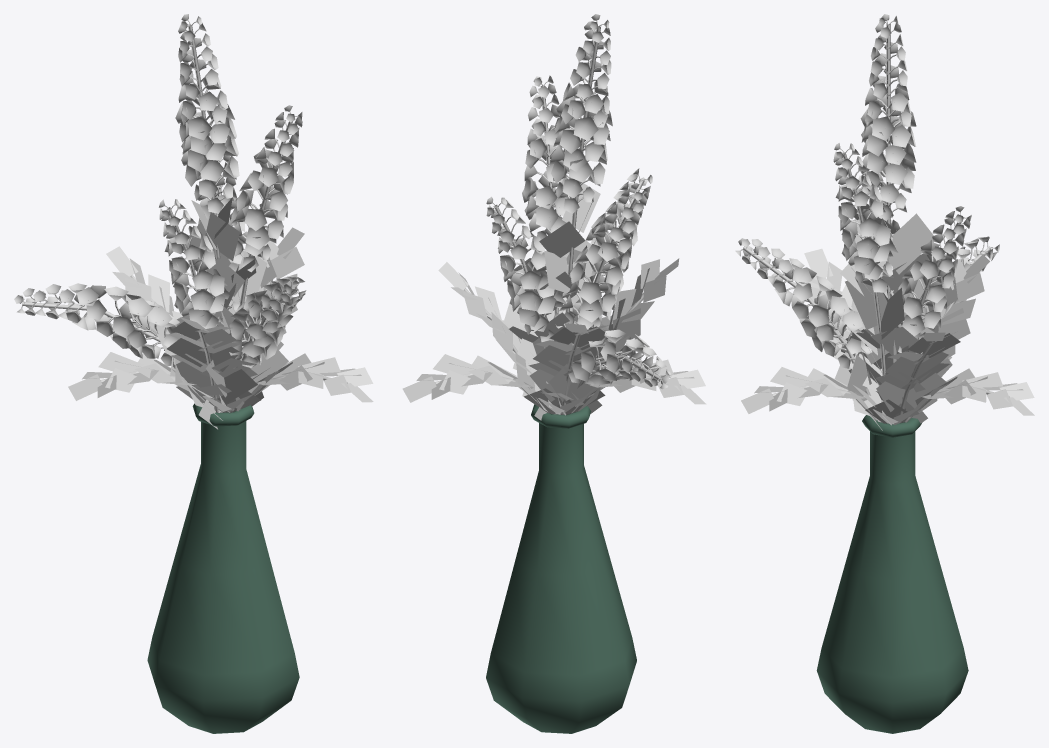
File: a_com_house_a01_plant01_green.gltf
The picture shows the model from 3 angles, left to right: view 1: azimuth 30°, elevation 25°; view 2: azimuth 150°, elevation 25°; view 3: azimuth 270°, elevation 25°; orthographic projection. The views are drawn at different scales.
Parts seen in each view (by area): view 1: um_a_com_house_a01_plant01_model_a_com_house_a01_plant01_mod (×2); view 2: um_a_com_house_a01_plant01_model_a_com_house_a01_plant01_mod (×2); view 3: um_a_com_house_a01_plant01_model_a_com_house_a01_plant01_mod (×2).
Boxes of the visible parts, bbox=[...] form: um_a_com_house_a01_plant01_model_a_com_house_a01_plant01_mod (×2): bbox=[14, 14, 373, 733]; um_a_com_house_a01_plant01_model_a_com_house_a01_plant01_mod (×2): bbox=[402, 14, 706, 733]; um_a_com_house_a01_plant01_model_a_com_house_a01_plant01_mod (×2): bbox=[735, 14, 1034, 733].
Bounding box in the file's own units: 0.3597 × 0.9504 × 0.3767.
Materials: 2 (1 with a texture image).
